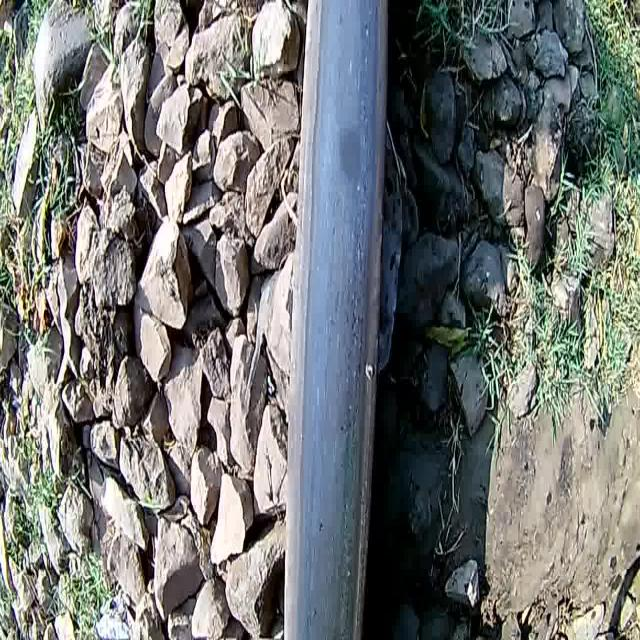Squats: (269, 0, 401, 640)
